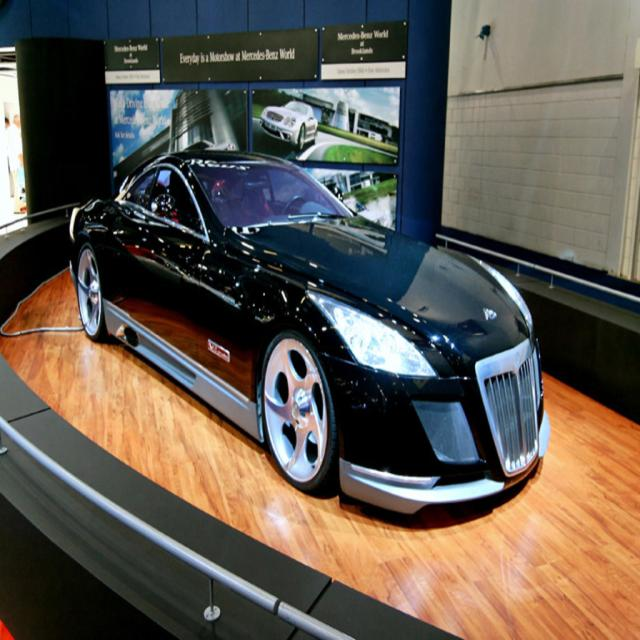car: (66, 146, 550, 519)
